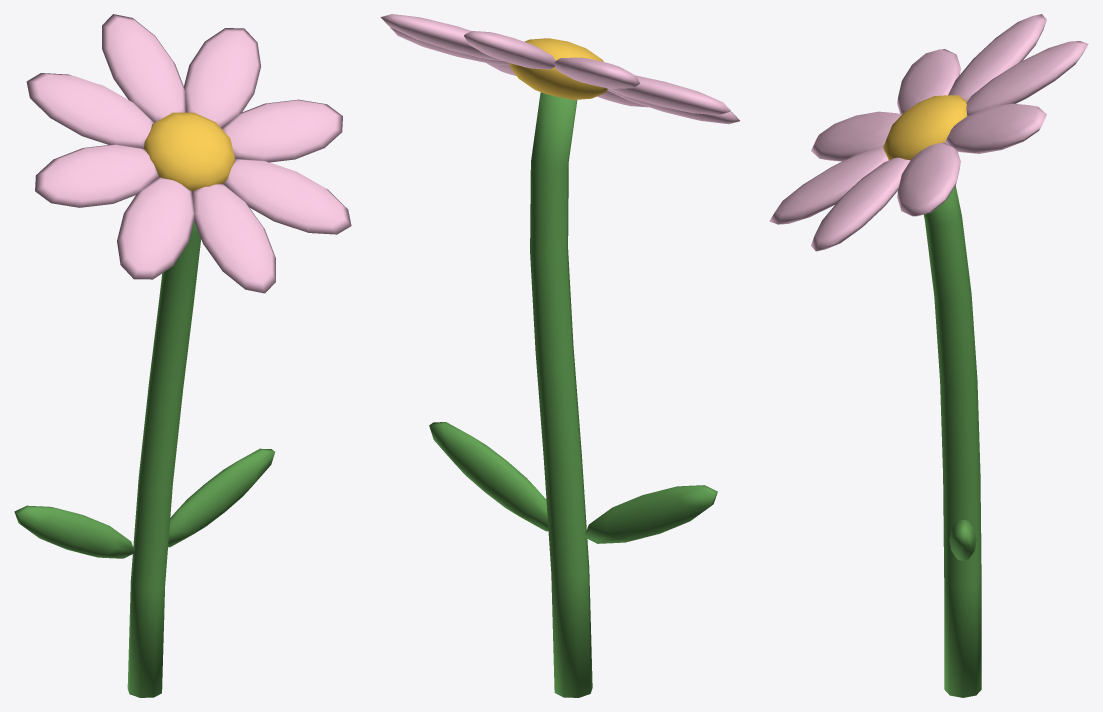
Rendered from cosmos.glb.
3 views of the same model, side by side, from view 1: azimuth 30°, elevation 25°; view 2: azimuth 150°, elevation 25°; view 3: azimuth 270°, elevation 25° (orthographic). The views are drawn at different scales.
Parts seen in each view (by area): view 1: flower; view 2: flower; view 3: flower.
Part boxes in pixels (x1,y1,x2,y2): flower: [14, 14, 351, 697]; flower: [380, 14, 739, 697]; flower: [769, 14, 1088, 697].
Size of the model in its own units: 0.2217 by 0.4278 by 0.1876.
